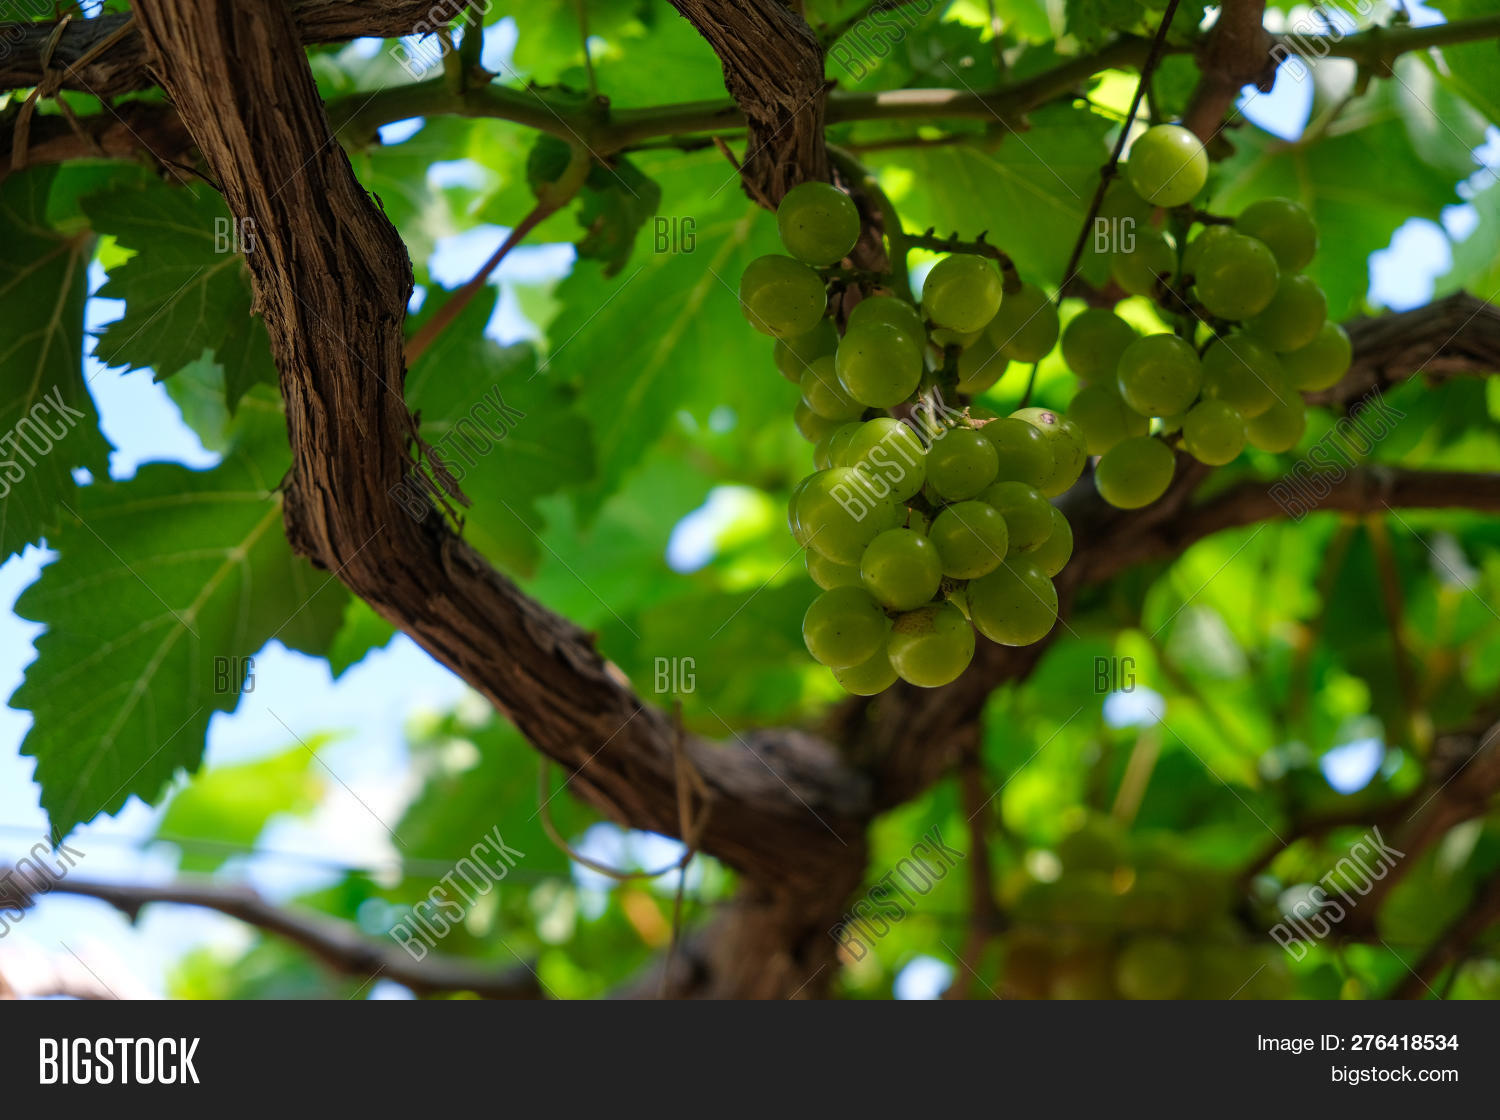grapes: (751, 151, 1093, 711), (1064, 93, 1354, 536)
